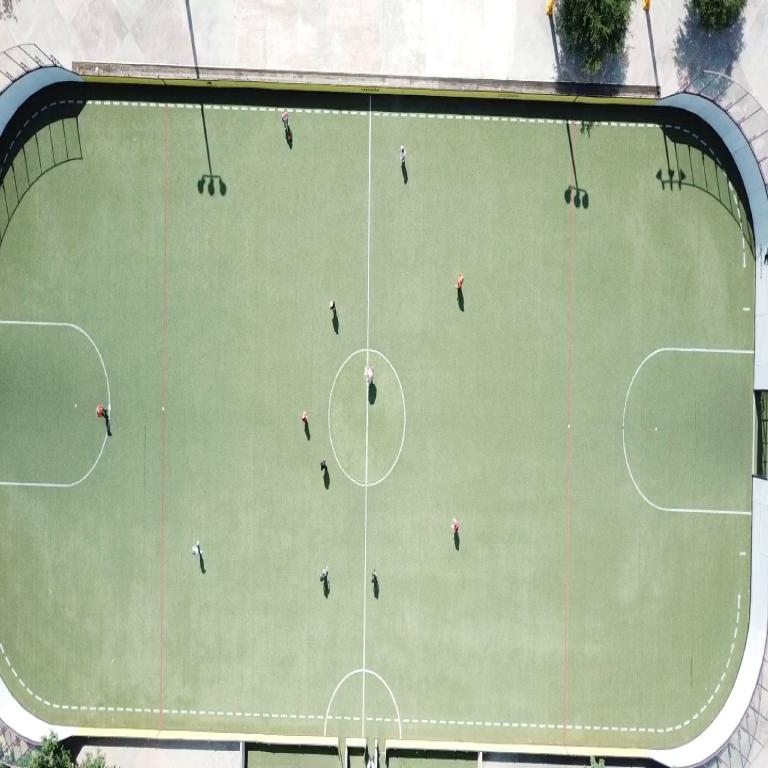AC: (622, 347, 753, 513), (0, 436, 106, 485), (69, 323, 111, 406), (0, 320, 69, 327)
B: (289, 135, 292, 141)
MC: (362, 388, 369, 737)
P: (96, 405, 111, 436), (364, 363, 374, 386), (192, 540, 202, 556), (320, 566, 328, 584), (281, 111, 288, 131), (400, 145, 406, 165), (456, 274, 463, 291), (452, 519, 459, 535), (371, 570, 377, 586), (300, 411, 307, 424), (329, 300, 335, 312), (320, 459, 326, 471)
